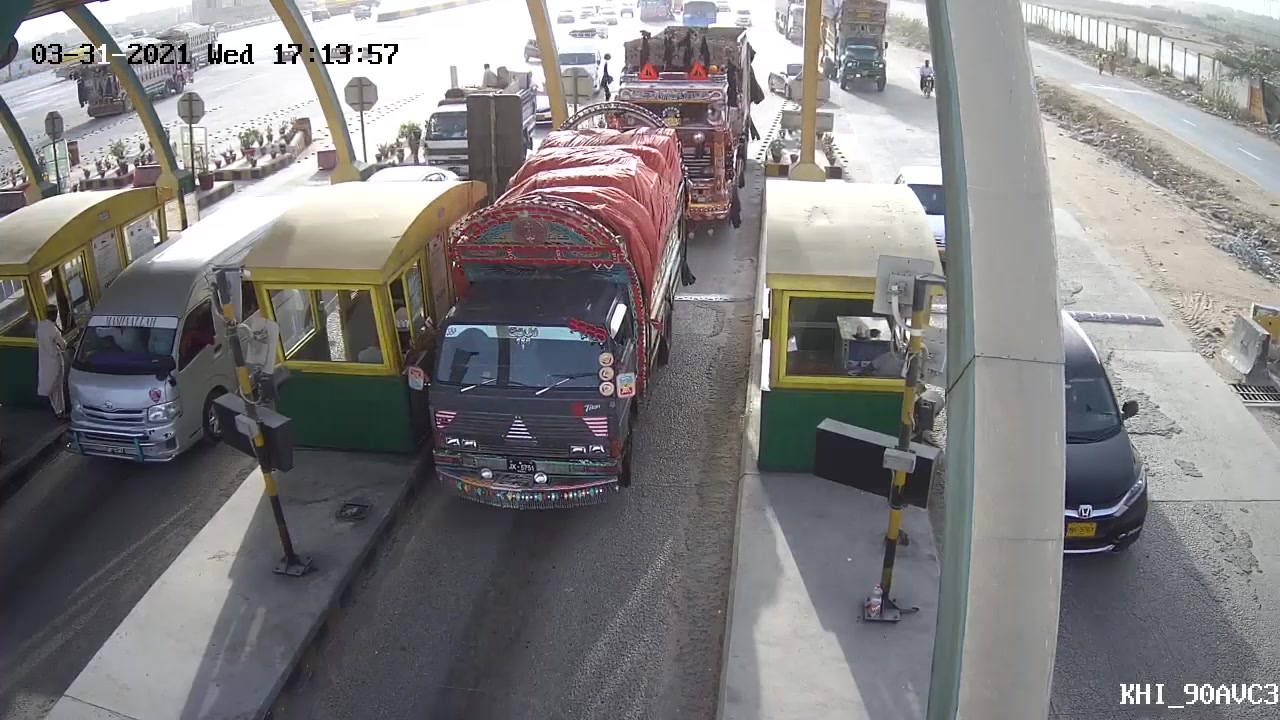F5: (407, 173, 646, 512)
